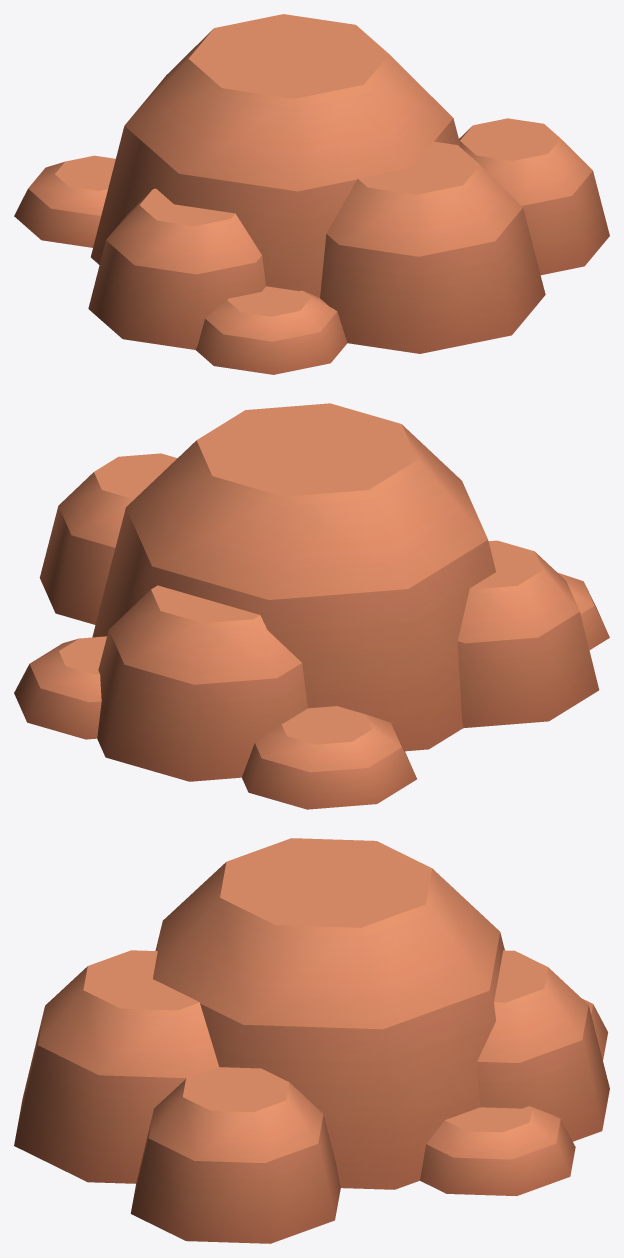
Rendered from cargo-pile-b.glb.
3 renders of one model, top to bottom at view 1: azimuth 30°, elevation 25°; view 2: azimuth 150°, elevation 25°; view 3: azimuth 270°, elevation 25°, orthographic. The views are drawn at different scales.
Visible parts, largest first — view 1: cargo-pile-b; view 2: cargo-pile-b; view 3: cargo-pile-b.
Boxes of the visible parts, left/top/right/bottom form: cargo-pile-b: left=14, top=14, right=609, bottom=374; cargo-pile-b: left=14, top=403, right=609, bottom=809; cargo-pile-b: left=14, top=838, right=609, bottom=1243.
Bounding box in the file's own units: 3.05 × 1.2 × 2.97.
1 material, 1 textured.
